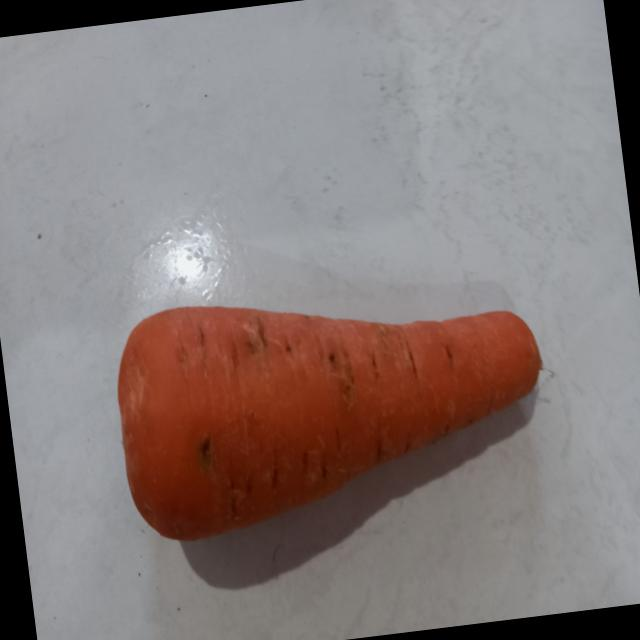carrot: (117, 306, 541, 540)
